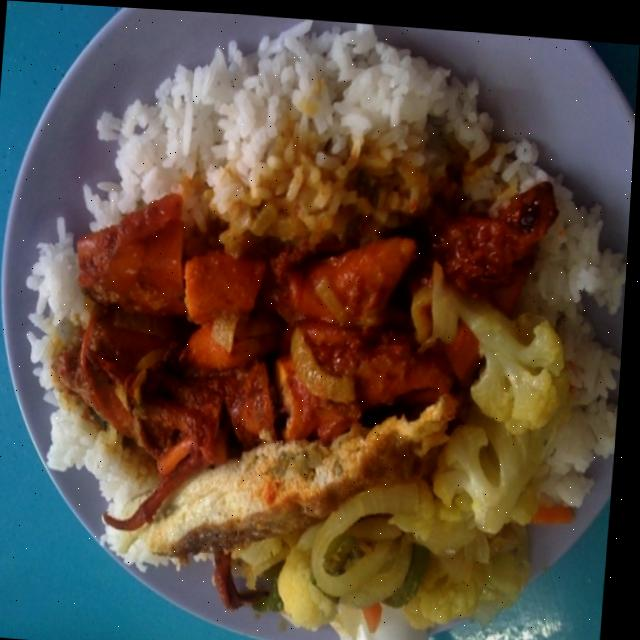米饭主食: (8, 6, 627, 640)
